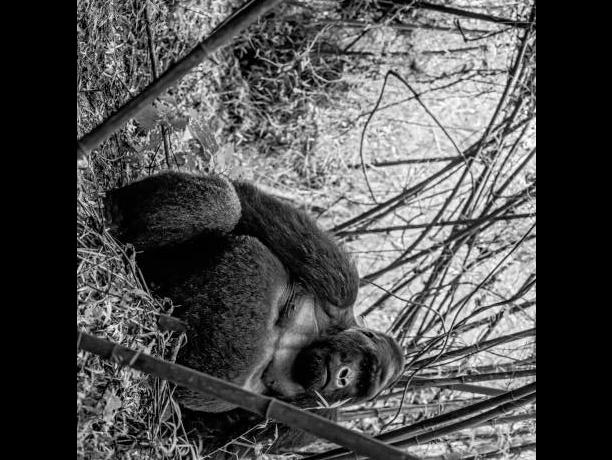goriile_montagne: (116, 178, 416, 460)
